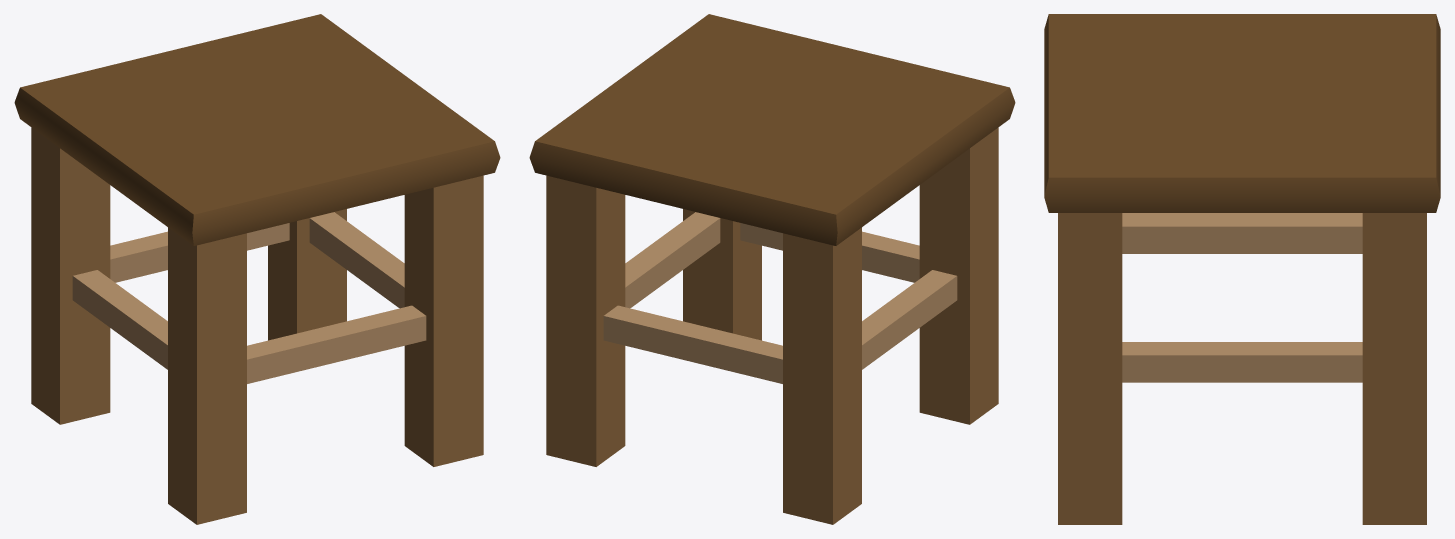
File: bedSideTable.fbx
3 views of the same model, side by side, from view 1: azimuth 30°, elevation 25°; view 2: azimuth 150°, elevation 25°; view 3: azimuth 270°, elevation 25° (orthographic). The views are drawn at different scales.
Visible parts, largest first — view 1: pCube1; view 2: pCube1; view 3: pCube1.
Boxes of the visible parts, bbox=[...] form: pCube1: bbox=[14, 14, 500, 524]; pCube1: bbox=[529, 14, 1015, 524]; pCube1: bbox=[1044, 14, 1440, 524].
Bounding box in the file's own units: 1.02 × 0.9996 × 1.02.
